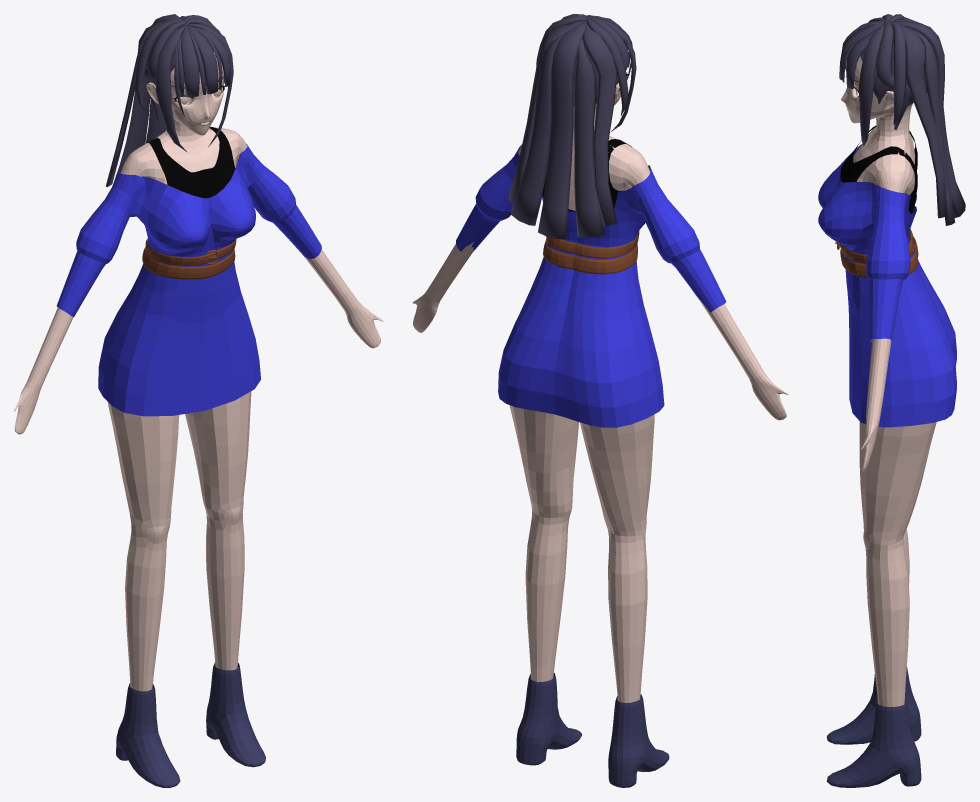
File: yayibone.fbx
3 views of the same model, side by side, from view 1: azimuth 30°, elevation 25°; view 2: azimuth 150°, elevation 25°; view 3: azimuth 270°, elevation 25° (orthographic). The views are drawn at different scales.
Parts seen in each view (by area): view 1: eyelids.up; view 2: eyelids.up; view 3: eyelids.up.
Part boxes in pixels (x1,y1,x2,y2): eyelids.up: (14,14,383,787); eyelids.up: (413,14,788,787); eyelids.up: (818,14,965,787).
Bounding box in the file's own units: 710 × 1351 × 243.
